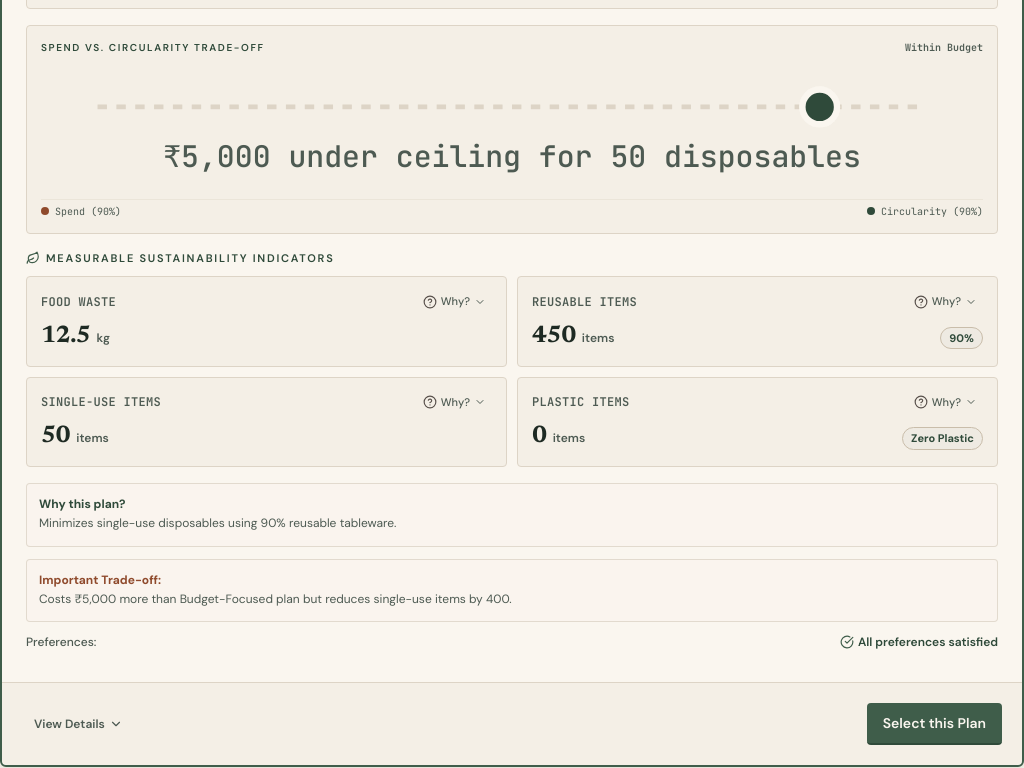
PlanCard & Sustainability Metrics Handling › translates technical parameters and hides raw keys in What we based this estimate on section
The width and height of the screenshot is (1024, 768).
(page scrolled)
Click the button "View Details". click: (78,724)
box: [22,708,135,740]
(page scrolled)
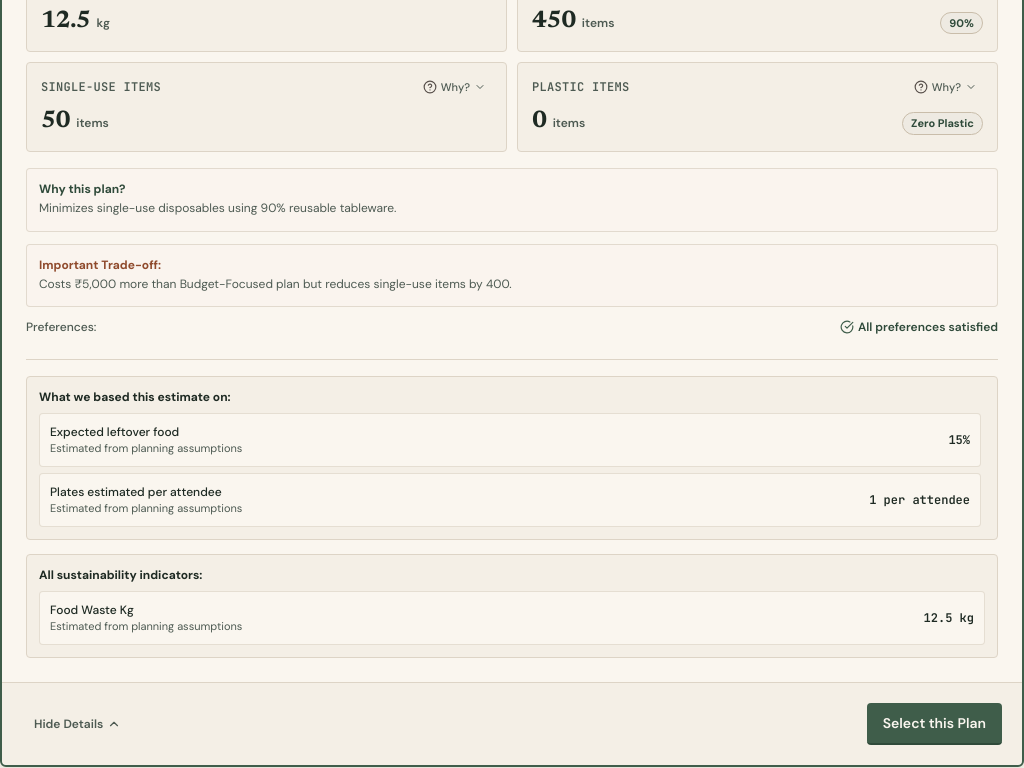
Check: the heading "What we based this estimate on:" is shown, box [39,389,231,405]
Check: the text "Expected leftover food" is shown, box [50,424,179,440]
Check: the text "Plates estimated per attendee" is shown, box [50,484,242,500]
